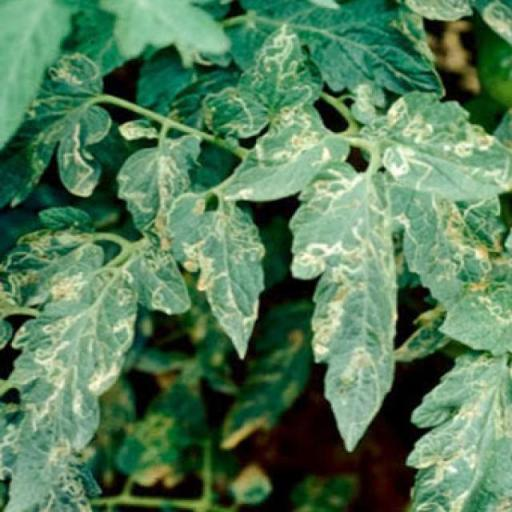Leaf Miner: (0, 261, 138, 511), (289, 160, 400, 453), (401, 349, 512, 512), (166, 190, 266, 362), (381, 89, 512, 202), (212, 102, 351, 202)
